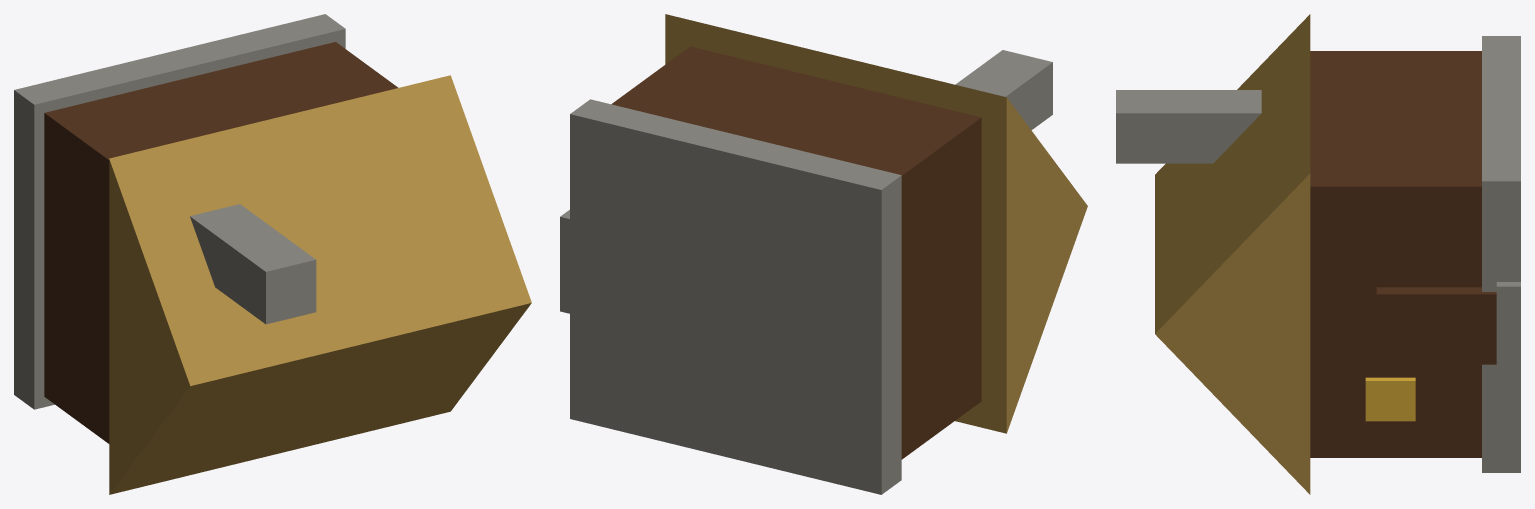
Rendered from SM_Hovel.obj.
3 views of the same model, side by side, from view 1: azimuth 30°, elevation 25°; view 2: azimuth 150°, elevation 25°; view 3: azimuth 270°, elevation 25° (orthographic). The views are drawn at different scales.
Parts seen in each view (by area): view 1: SM_Hovel_thatch, SM_Hovel_timber, SM_Hovel_stone; view 2: SM_Hovel_stone, SM_Hovel_timber, SM_Hovel_thatch; view 3: SM_Hovel_timber, SM_Hovel_thatch, SM_Hovel_stone, SM_Hovel_gold.
Part boxes in pixels (x1,y1,x2,y2): SM_Hovel_thatch: (109, 75, 531, 494); SM_Hovel_timber: (44, 42, 398, 443); SM_Hovel_stone: (14, 14, 345, 409); SM_Hovel_stone: (560, 50, 1052, 494); SM_Hovel_timber: (611, 46, 981, 459); SM_Hovel_thatch: (665, 14, 1087, 433); SM_Hovel_timber: (1310, 51, 1496, 457); SM_Hovel_thatch: (1155, 14, 1310, 494); SM_Hovel_stone: (1116, 36, 1520, 472); SM_Hovel_gold: (1365, 377, 1415, 421).
Size of the model in its own units: 340 by 320 by 365.
